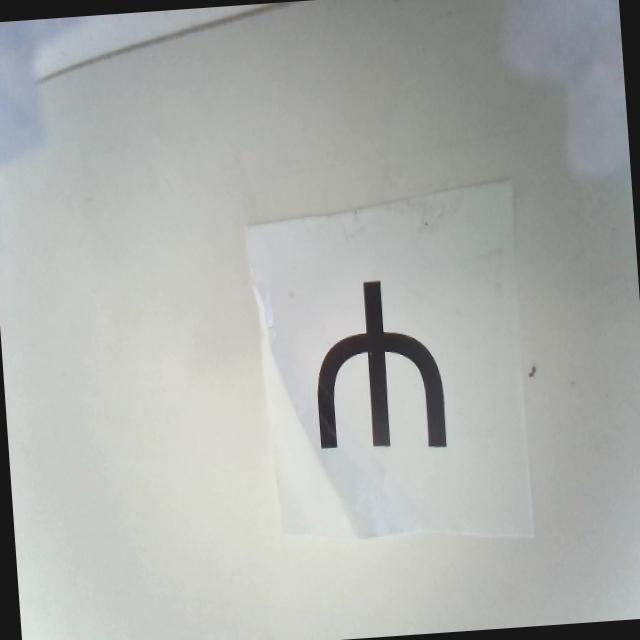nedoF: (310, 275, 447, 458)
